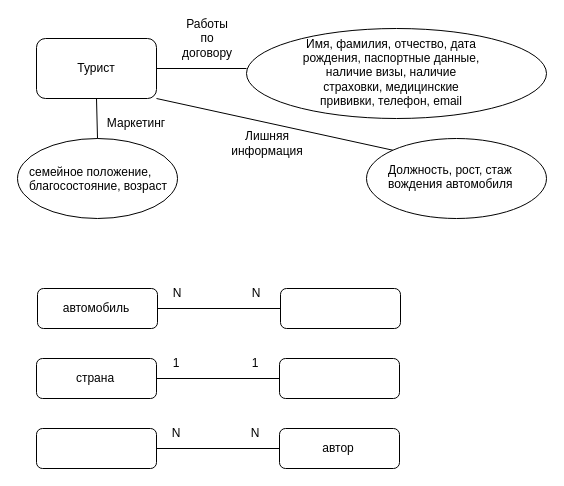
Some shapes in this 564 by 486 pixel diagram are drawn without their labels. The shapes that lost their labels are listed below. From the top down, each one's centre as x and y in pixels, then its label:
(340,308): автовладелец
(339,378): столица
(96,448): книга
